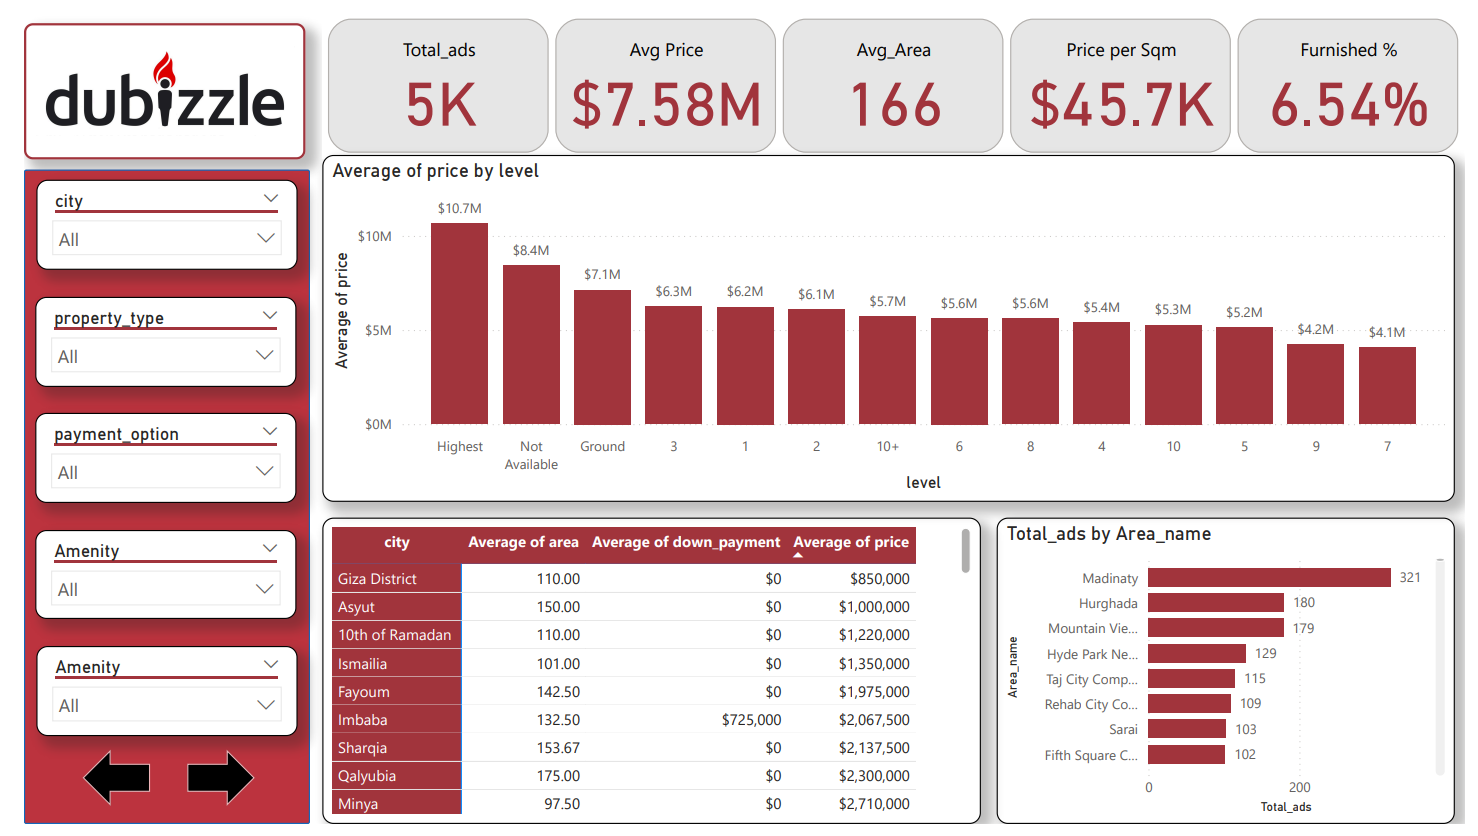

What the dashboard file says about the page in this screenshot:
{"tool":"powerbi","page":{"name":"Location","canvas":[1280,720],"ordinal":3},"visuals":[{"type":"image","box":[0,8.6,250.3,121.5],"z":0},{"type":"cardVisual","fields":{"Data":["Dax.Total_ads","Dax.Avg Price","Dax.Avg_Area","Dax.Price per Sqm","Dax.Furnished %"]},"box":[265,0,1014.7,128.8],"z":1000},{"type":"shape","box":[0,138.7,254,581.6],"z":2000},{"type":"slicer","fields":{"Values":["Dubizzle_properties.city"]},"box":[11,148.5,231.9,79.8],"z":3000},{"type":"slicer","fields":{"Values":["Dubizzle_properties.property_type"]},"box":[9.8,251.8,231.9,79.8],"z":4000},{"type":"slicer","fields":{"Values":["Dubizzle_properties.payment_option"]},"box":[10.1,355.2,231.9,79.8],"z":5000},{"type":"slicer","fields":{"Values":["AmenitiesTable.Amenity"]},"box":[10.4,458.6,231.9,79.8],"z":6000},{"type":"slicer","fields":{"Values":["AmenitiesTable.Amenity"]},"box":[10.7,562,231.9,79.8],"z":7000},{"type":"shape","box":[144.8,654,60.1,50.3],"z":8000},{"type":"shape","box":[51.5,654,60.1,50.3],"z":9000},{"type":"barChart","fields":{"Category":["Dubizzle_properties.Area_name"],"Y":["Dax.Total_ads"]},"box":[863.8,447.9,407.4,272.4],"z":10000},{"type":"pivotTable","fields":{"Values":["Avg(Dubizzle_properties.area)","Avg(Dubizzle_properties.down_payment)","Avg(Dubizzle_properties.price)"],"Rows":["Dubizzle_properties.city"]},"box":[265,447.9,585.3,272.4],"z":11000},{"type":"columnChart","fields":{"Category":["Dubizzle_properties.level"],"Y":["Avg(Dubizzle_properties.price)"]},"box":[265,126.4,1006.1,308],"z":12000}]}

Visuals, with their boxes in screenshot pixels (x1, y1, x2, y2), scaled from the page's 1280x720 canvas onto the 1478x836 screenshot:
image: locate(0, 10, 289, 151)
cardVisual - Dax.Total_ads x Dax.Avg Price: locate(306, 0, 1477, 150)
shape: locate(0, 161, 293, 835)
slicer - Dubizzle_properties.city: locate(13, 172, 280, 265)
slicer - Dubizzle_properties.property_type: locate(11, 292, 279, 385)
slicer - Dubizzle_properties.payment_option: locate(12, 412, 279, 505)
slicer - AmenitiesTable.Amenity: locate(12, 532, 280, 625)
slicer - AmenitiesTable.Amenity: locate(12, 653, 280, 745)
shape: locate(167, 759, 237, 818)
shape: locate(59, 759, 129, 818)
barChart - Dubizzle_properties.Area_name x Dax.Total_ads: locate(997, 520, 1468, 835)
pivotTable - Avg(Dubizzle_properties.area) x Avg(Dubizzle_properties.down_payment): locate(306, 520, 982, 835)
columnChart - Dubizzle_properties.level x Avg(Dubizzle_properties.price): locate(306, 147, 1468, 504)
